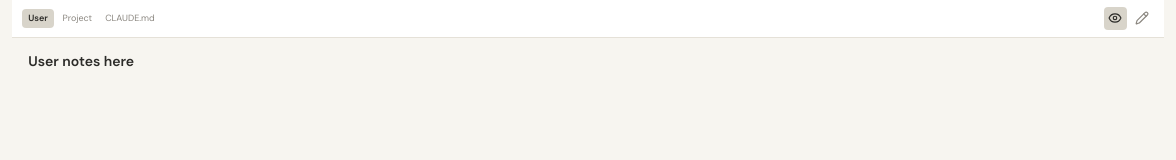
Scenario: MemoryEditor › resets dirty state and mode when switching tiers
expect the heading "User notes here" is shown: met, box [28,52,134,70]
Note: Switch to edit mode and make changes
Click the button named "Edit mode".
click(1142, 18)  # box [1130,6,1154,30]
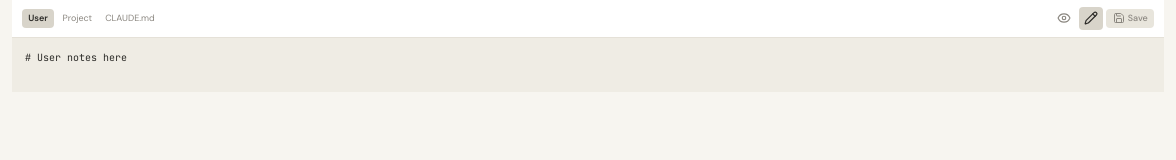
expect the text box named "CLAUDE.md editor" is shown: met
Replace the text in the text box named "CLAUDE.md editor" with "# Modified user content" at x=588, y=65, box [12,38,1164,92]
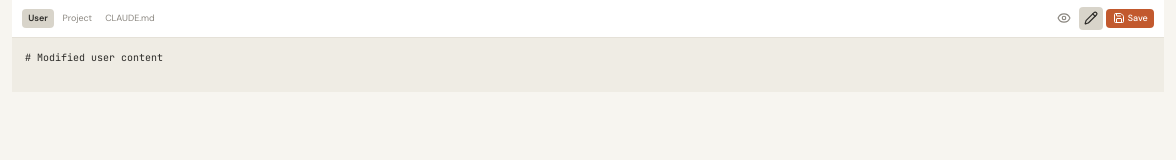
Click the button with aria-label "Project tier".
click(77, 18)  # box [56,9,99,28]
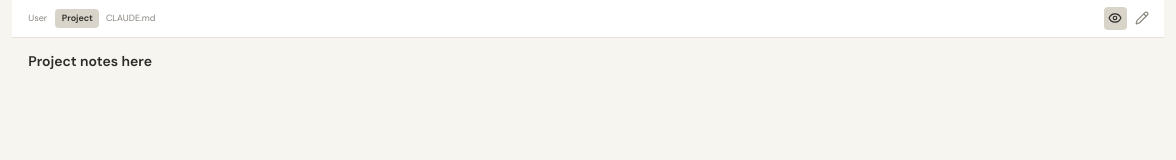
expect the heading "Project notes here" is shown: met, box [28,52,152,70]
